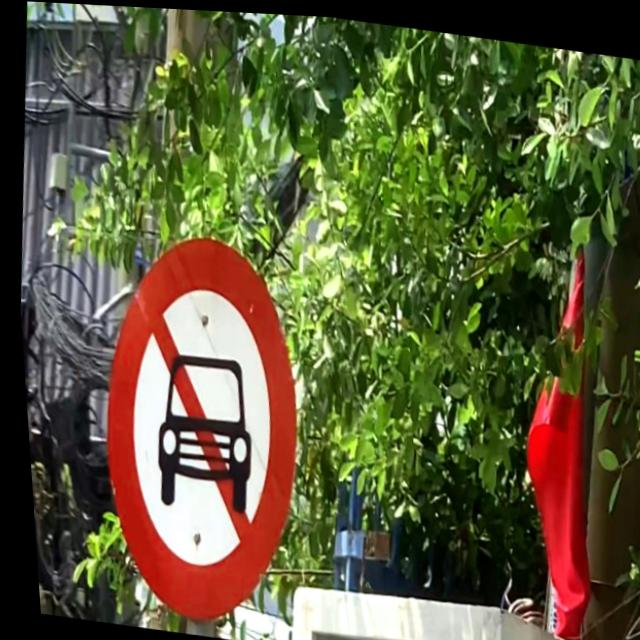Cam xe oto: (73, 220, 318, 633)
